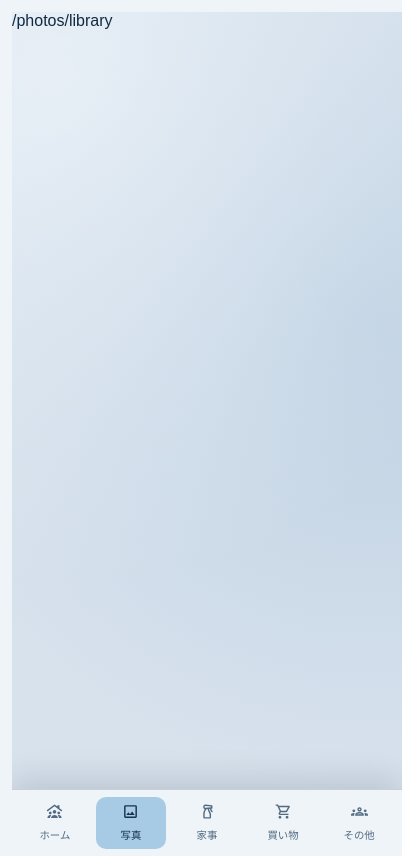
Test case: AppNavigation › opens the shopping list from the mobile shopping entry point
What coordinates should you click on to do the following:
click the link "買い物"
I would click on:
 (283, 822)
Its box is [268,803,299,841].
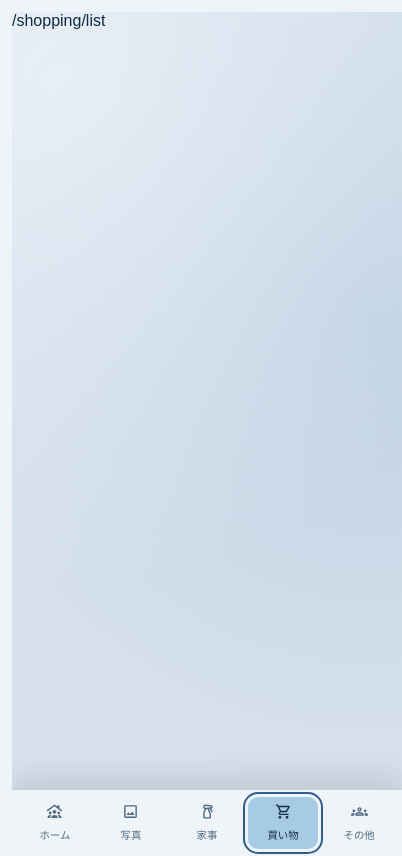
Now the text named "current path" reads "/shopping/list", box [12,12,105,29]
